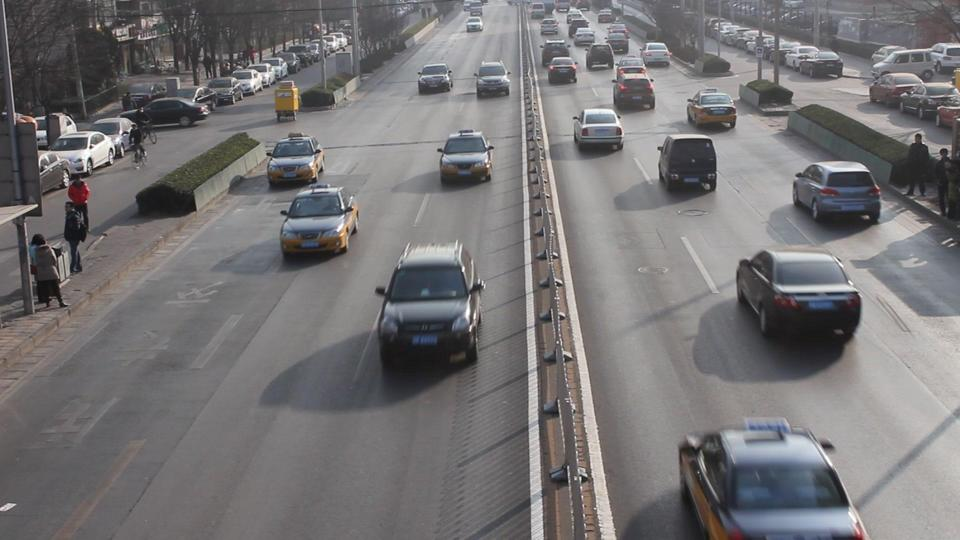Car: (679, 424, 857, 540), (378, 245, 484, 367), (735, 247, 863, 345), (793, 159, 882, 227), (281, 189, 361, 256), (438, 131, 494, 186), (267, 137, 325, 184), (573, 106, 626, 152), (686, 90, 737, 130), (614, 75, 656, 113), (475, 62, 514, 100), (417, 65, 455, 96), (641, 42, 673, 68), (548, 56, 576, 85), (586, 43, 614, 71), (618, 56, 647, 83)
Minivan: (659, 134, 720, 193)
